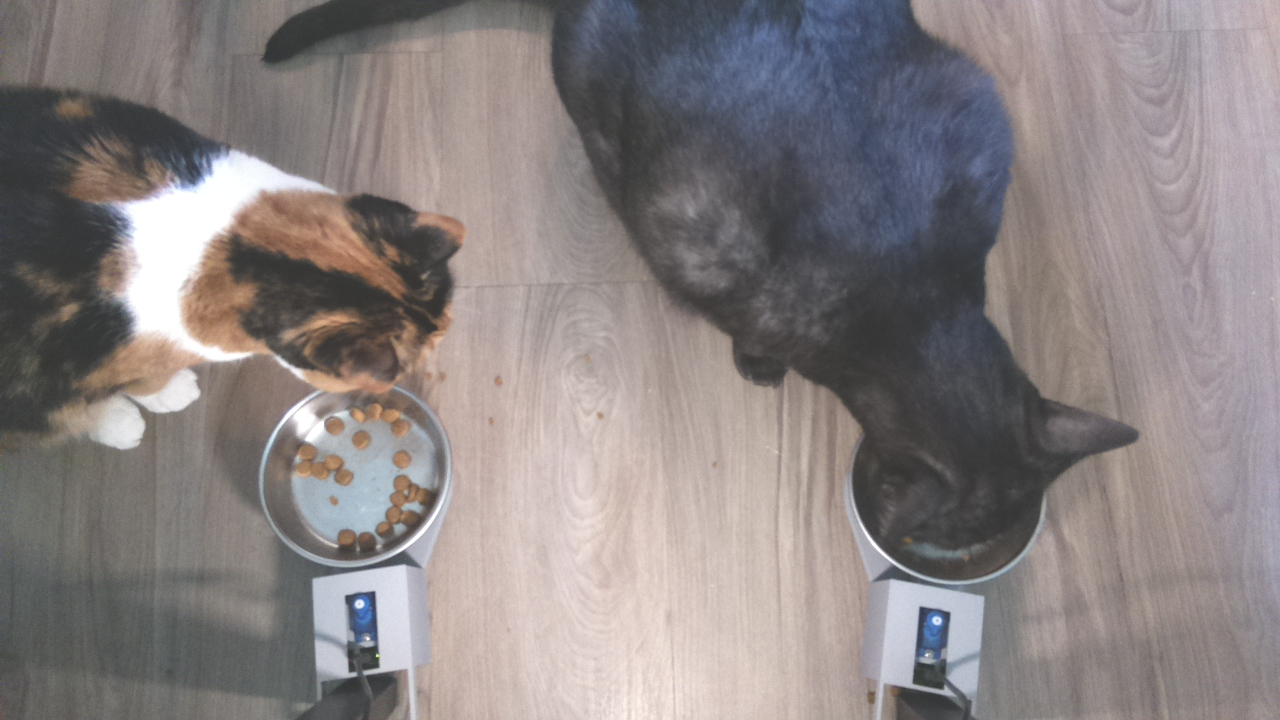bella: (248, 172, 461, 393)
open_bowl: (257, 378, 464, 576)
saki_eating: (791, 365, 1172, 590)
